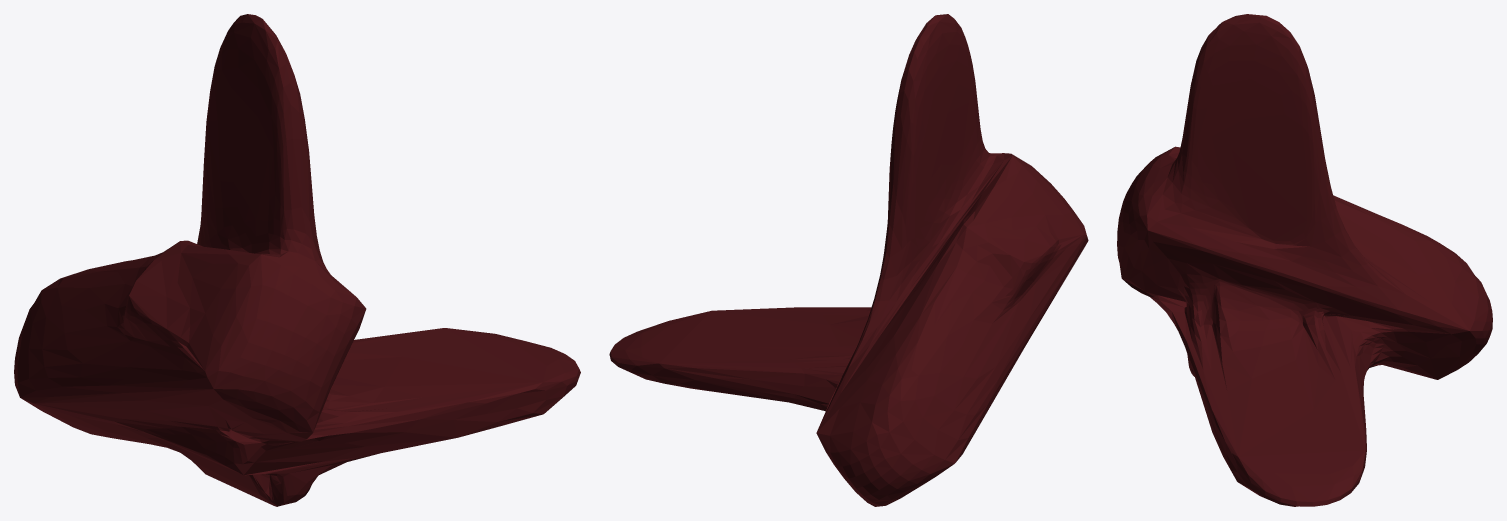
The picture shows the model from 3 angles, left to right: view 1: azimuth 30°, elevation 25°; view 2: azimuth 150°, elevation 25°; view 3: azimuth 270°, elevation 25°; orthographic projection. The views are drawn at different scales.
Parts seen in each view (by area): view 1: 513_Cube.2072; view 2: 513_Cube.2072; view 3: 513_Cube.2072.
Boxes of the visible parts, <box> form: 513_Cube.2072: <box>14,14,580,506</box>; 513_Cube.2072: <box>609,14,1088,506</box>; 513_Cube.2072: <box>1117,14,1492,506</box>.
Size of the model in its own units: 12.38 by 12.08 by 10.63.
